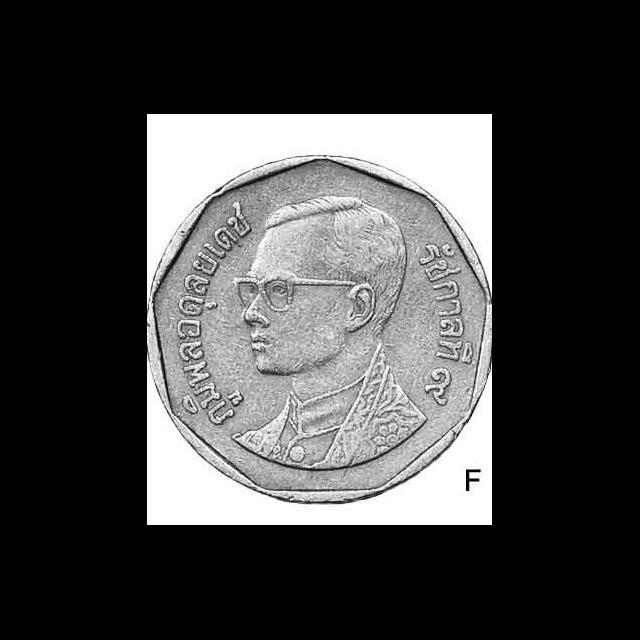5-baht: (148, 142, 492, 521)
